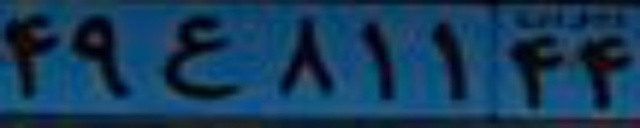1: (426, 19, 468, 101), (360, 17, 395, 100)
4: (1, 11, 54, 99), (511, 34, 566, 110), (578, 34, 632, 109)
8: (278, 14, 340, 97)
9: (67, 13, 129, 96)
ain: (164, 14, 241, 98)
